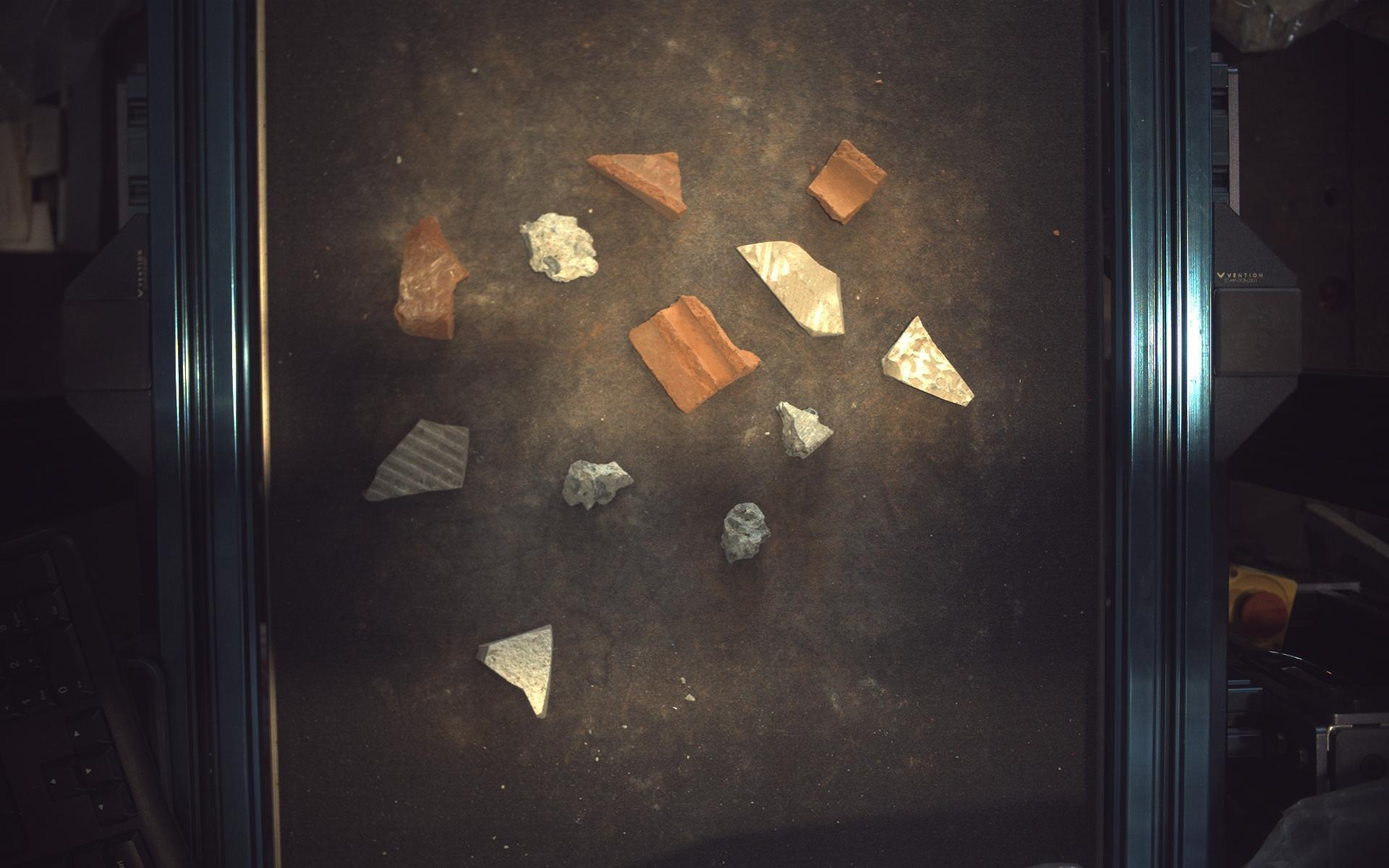brick: (629, 295, 762, 413), (394, 216, 468, 339), (589, 151, 688, 220), (809, 138, 888, 224)
concrete: (520, 212, 599, 282), (564, 461, 634, 510), (777, 402, 835, 459), (723, 503, 771, 563)
tile: (739, 240, 846, 337), (363, 420, 469, 502), (883, 317, 975, 407), (478, 627, 552, 718)
